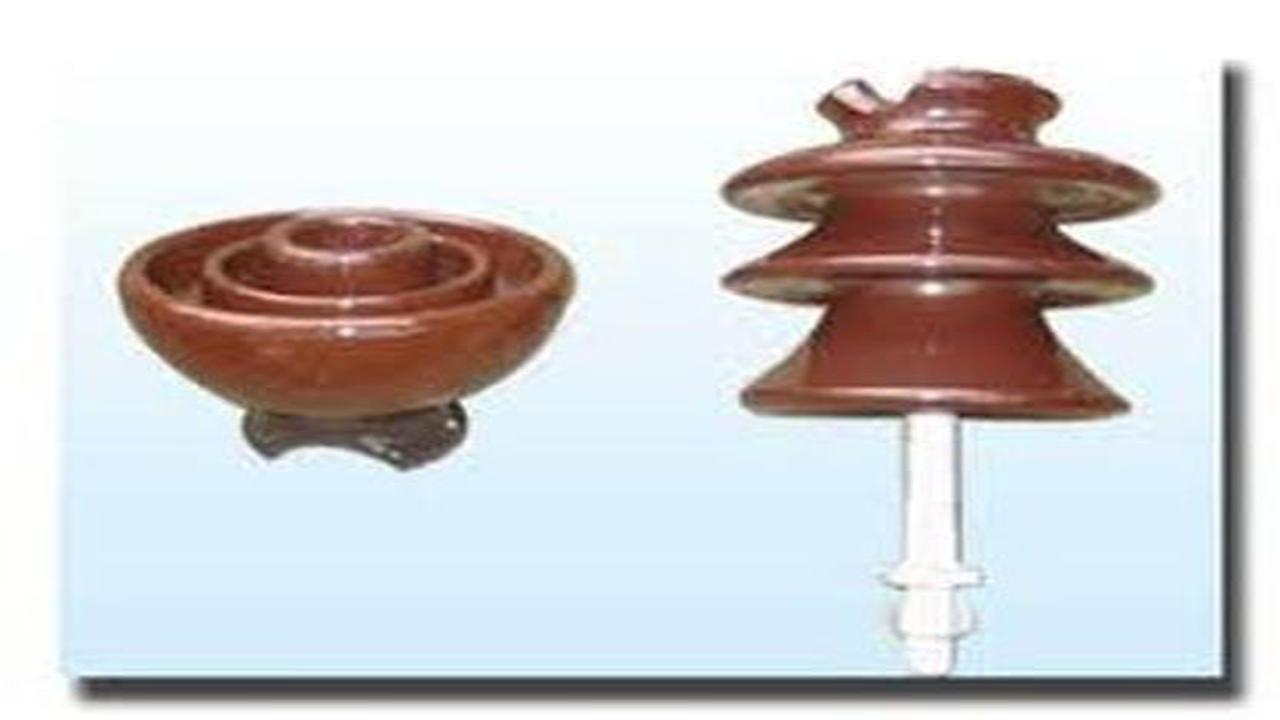insulator_pin: (109, 186, 604, 487)
